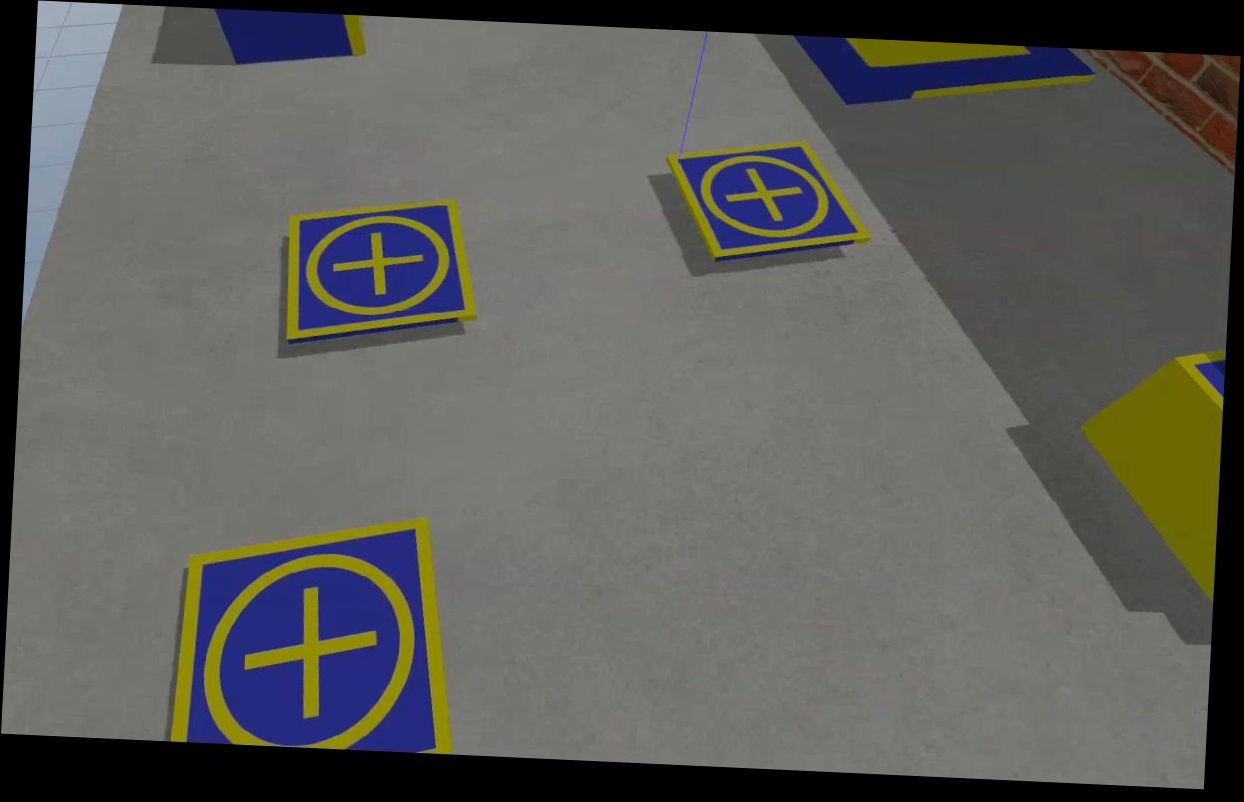large_base: (790, 35, 1095, 113)
small_base: (165, 504, 461, 757), (280, 195, 487, 357), (662, 136, 874, 266)
